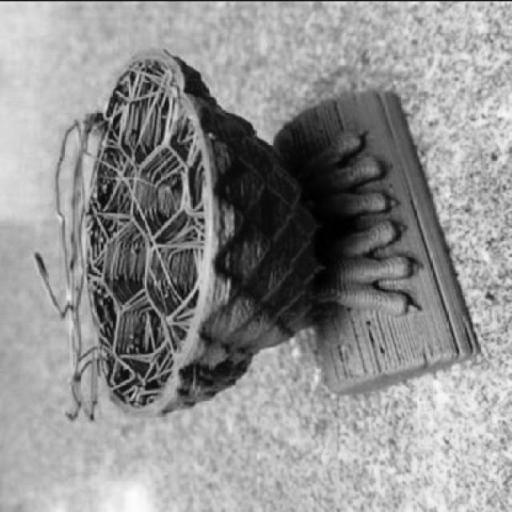spaghetti_and_stringing: (28, 110, 120, 424)
